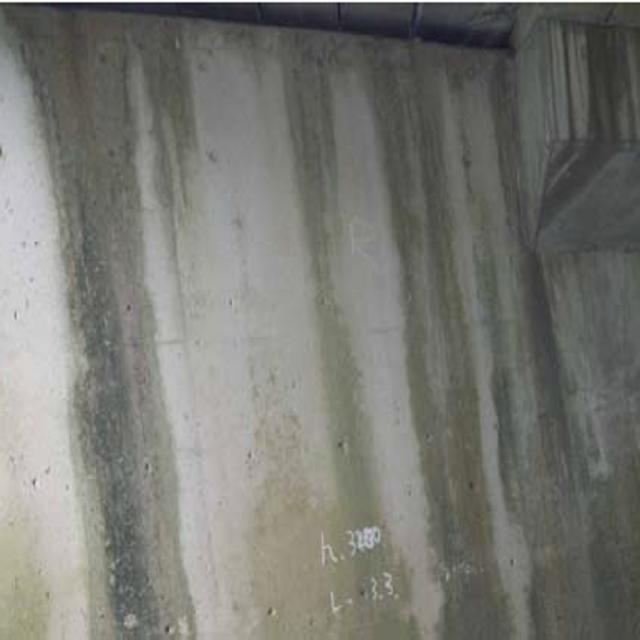leakage: (302, 25, 624, 624), (18, 6, 198, 621)
